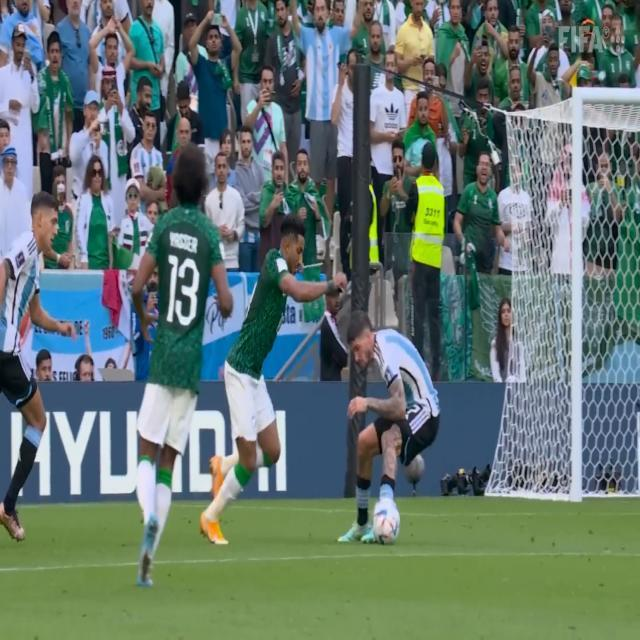football: (362, 500, 422, 558)
